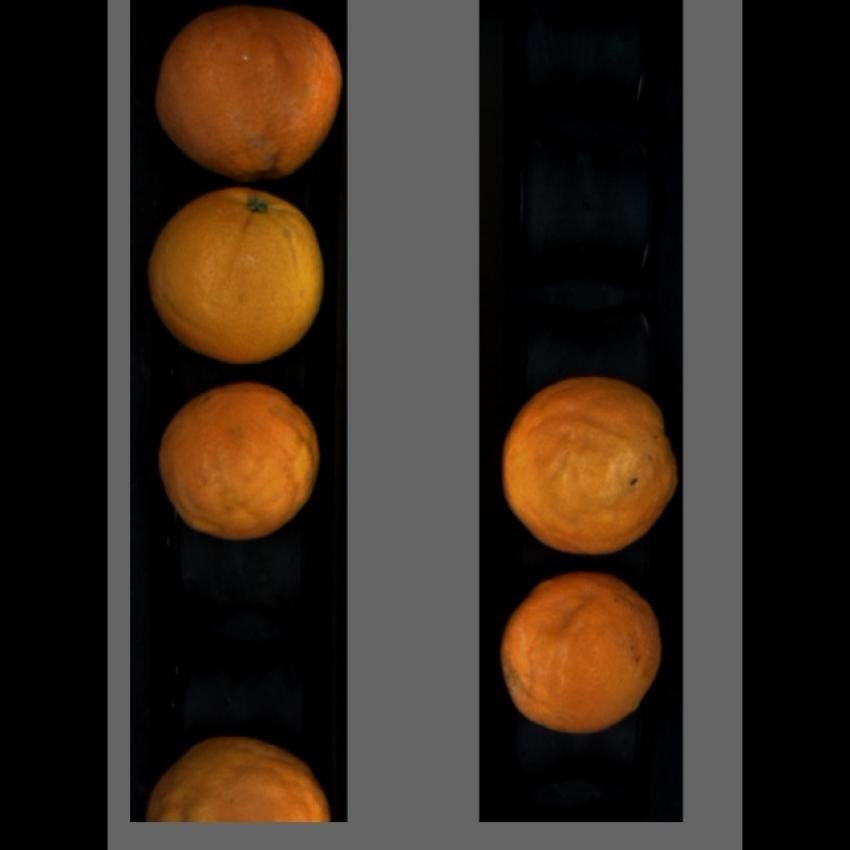Buen estado: (141, 190, 332, 368)
Mal estado: (146, 5, 347, 183), (497, 371, 680, 560), (143, 380, 332, 546), (493, 569, 671, 740), (144, 730, 337, 821)
